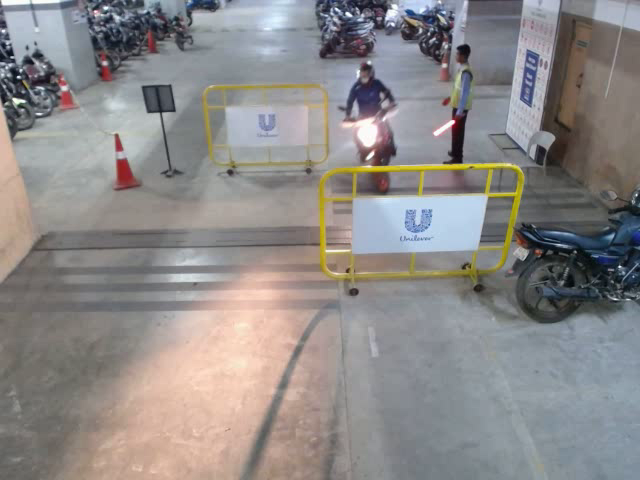with_helmet: (354, 59, 377, 87)
